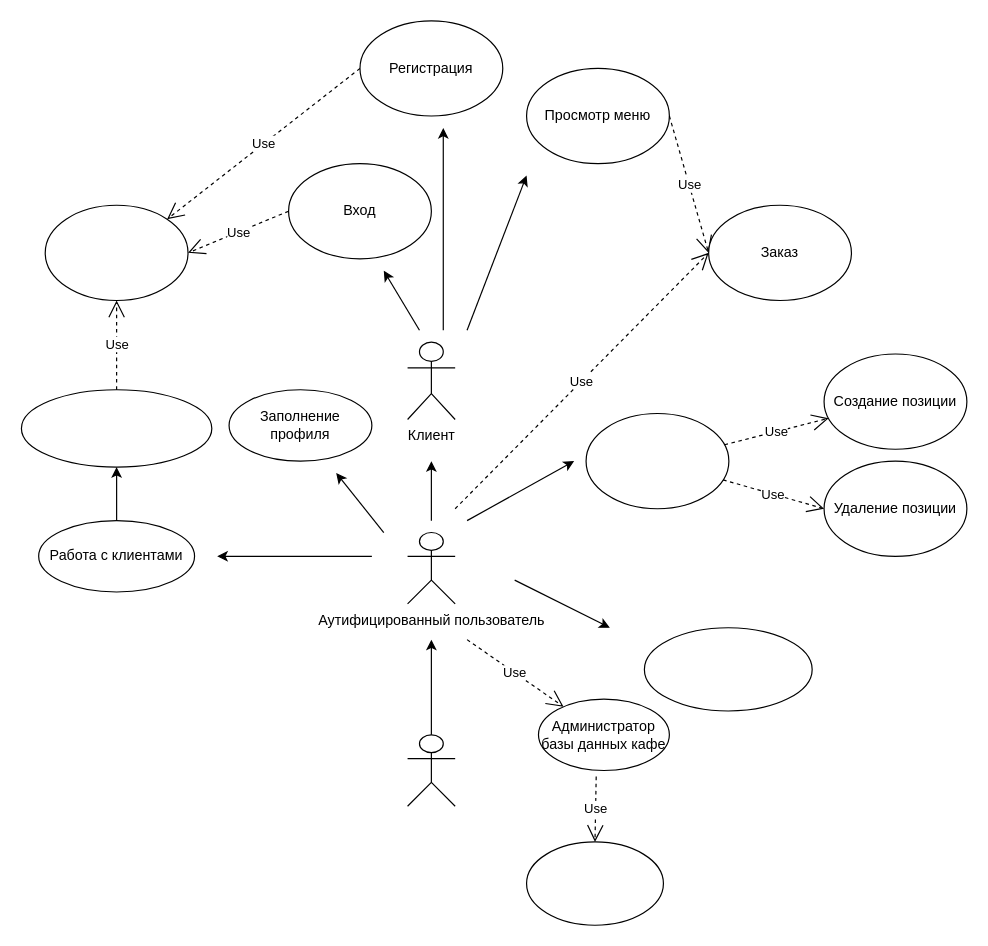
Some shapes in this 988 by 946 pixel diagram are drawn without their labels. Here are the shapes that lost their labels. From the top down, the box of each, then its label:
(44, 204, 188, 300): Подтверждение номера
(20, 389, 212, 467): Редактирование профиля
(585, 412, 729, 509): Работа с товаром
(643, 627, 812, 711): Просмотр записей клиента
(406, 734, 455, 806): Работник кафе
(525, 841, 663, 925): Создать нового администратора
